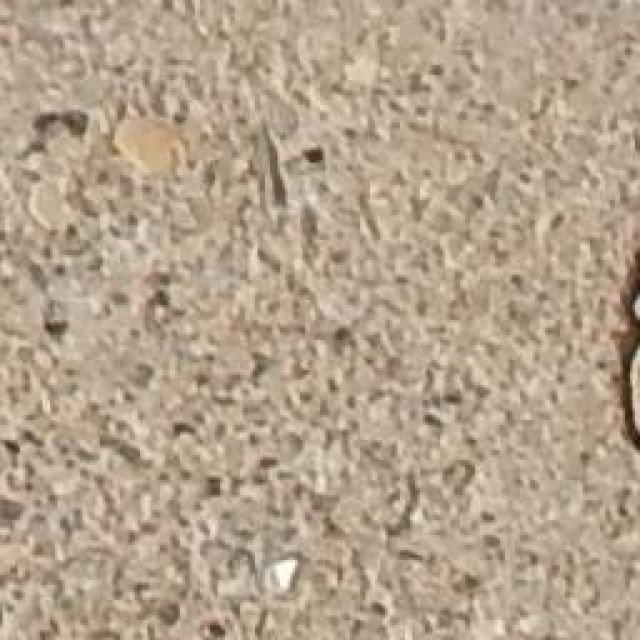concrete-crack: (604, 246, 640, 455)
